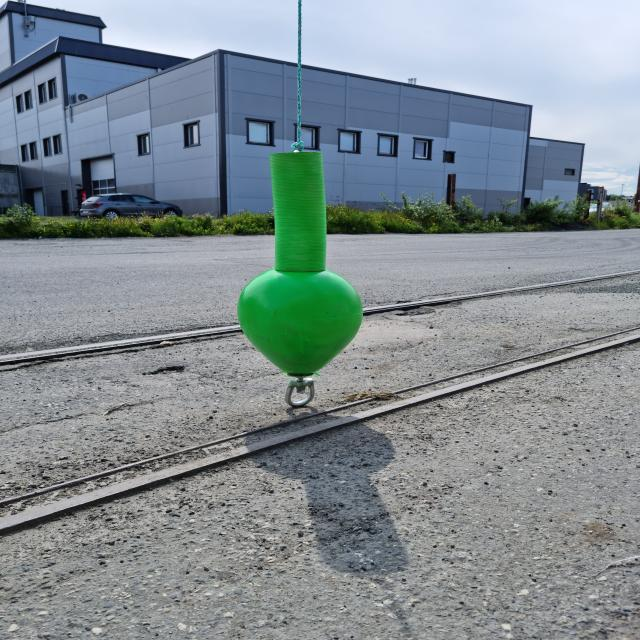green: (236, 153, 364, 375)
